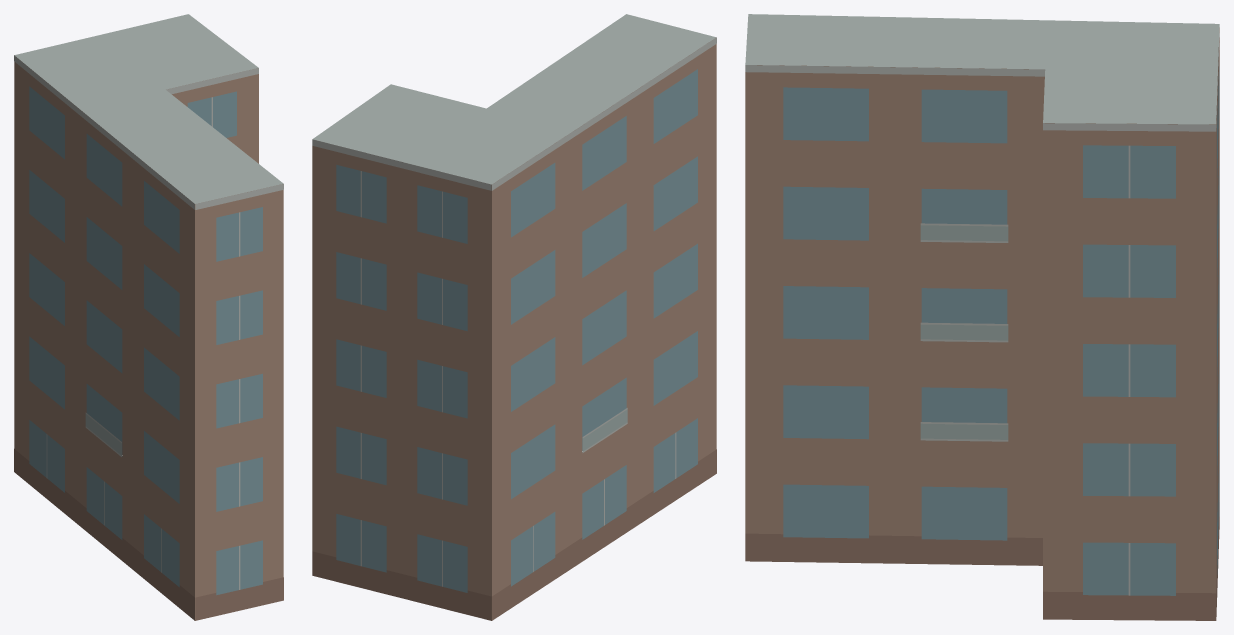
The model's file is survey-upis-32471758.glb.
The picture shows the model from 3 angles, left to right: view 1: azimuth 30°, elevation 25°; view 2: azimuth 150°, elevation 25°; view 3: azimuth 270°, elevation 25°; orthographic projection. The views are drawn at different scales.
Visible parts, largest first — view 1: survey-upis-32471758.tmp; view 2: survey-upis-32471758.tmp; view 3: survey-upis-32471758.tmp.
Part boxes in pixels (bbox=[...]): survey-upis-32471758.tmp: bbox=[14, 14, 283, 620]; survey-upis-32471758.tmp: bbox=[312, 14, 716, 620]; survey-upis-32471758.tmp: bbox=[745, 14, 1219, 620].
Size of the model in its own units: 7.95 by 16.64 by 14.42.
